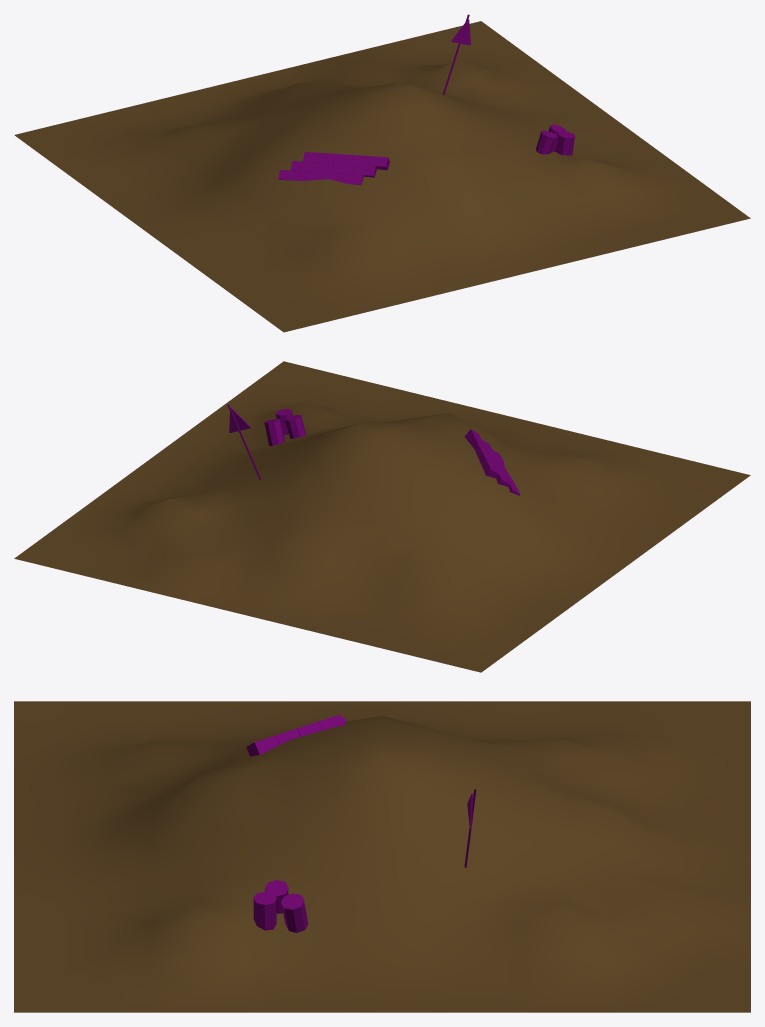
Rendered from mo_BuildingSlot.fbx.
3 views of the same model, one above another, from view 1: azimuth 30°, elevation 25°; view 2: azimuth 150°, elevation 25°; view 3: azimuth 270°, elevation 25° (orthographic). The views are drawn at different scales.
Parts seen in each view (by area): view 1: ground_geo, debris_geo; view 2: ground_geo, debris_geo; view 3: ground_geo, debris_geo.
Part boxes in pixels (x1,y1,x2,y2): ground_geo: (14, 21, 750, 332); debris_geo: (278, 14, 575, 184); ground_geo: (14, 361, 750, 672); debris_geo: (227, 404, 520, 495); ground_geo: (14, 701, 750, 1012); debris_geo: (246, 714, 476, 932).
Size of the model in its own units: 2500 by 552 by 2500.
